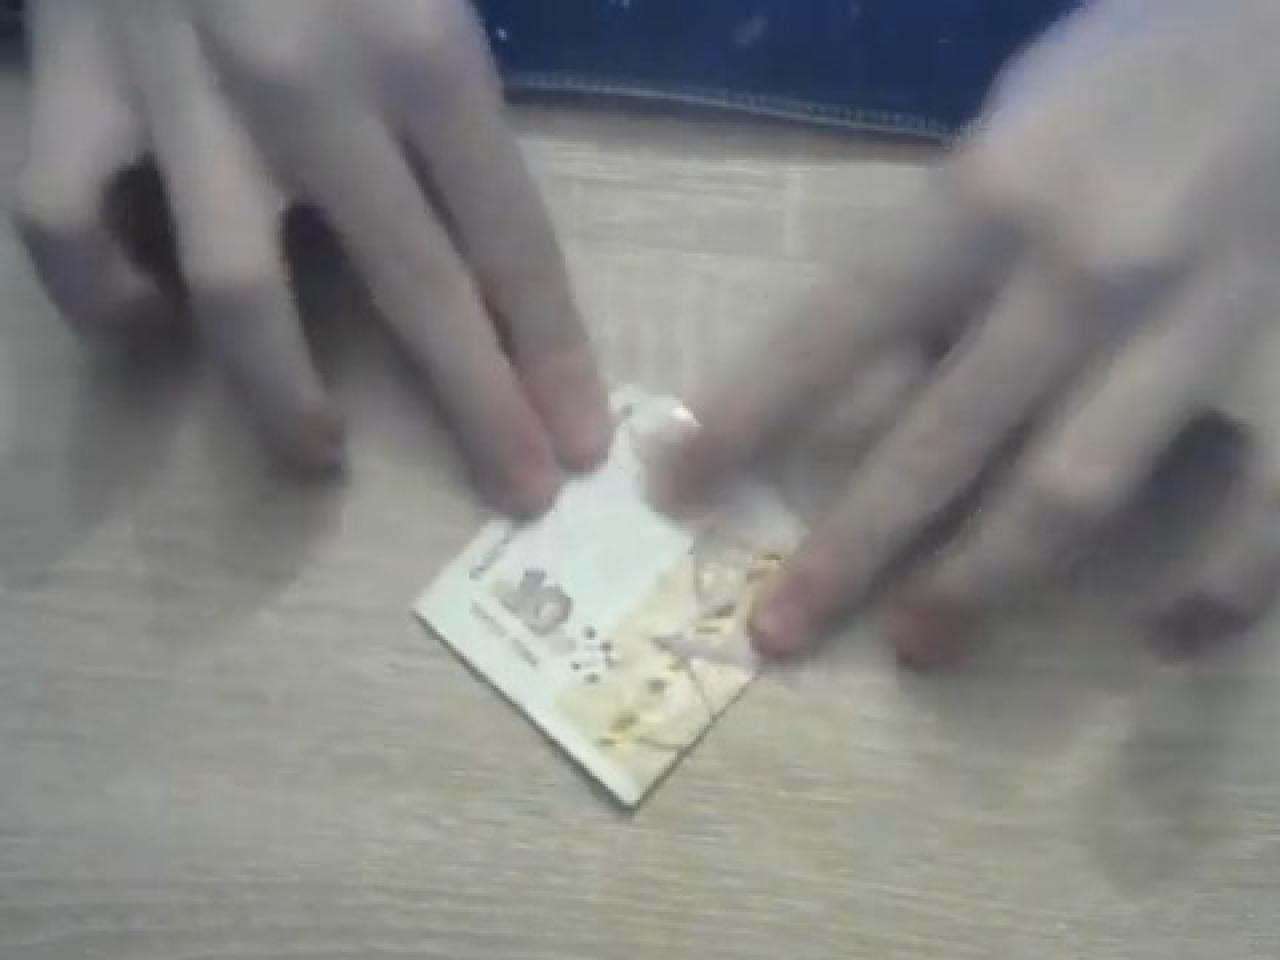10leva: (410, 389, 781, 816)
